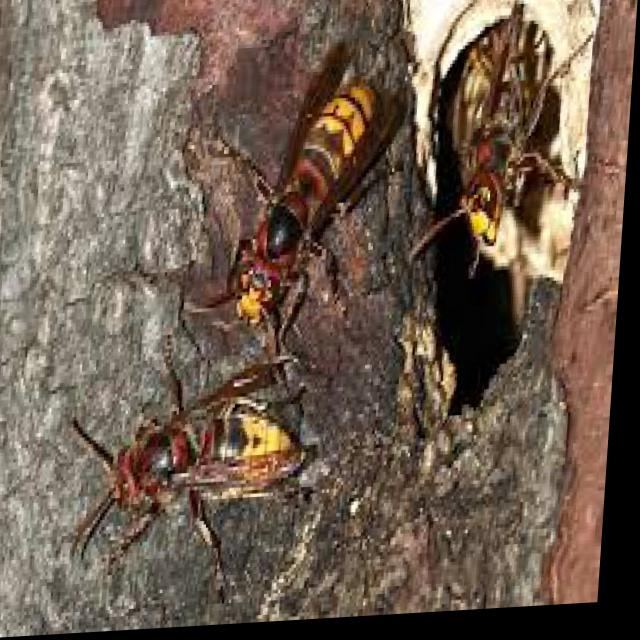Vespa Crabro: (53, 332, 329, 582), (190, 36, 402, 343), (424, 2, 600, 278)
